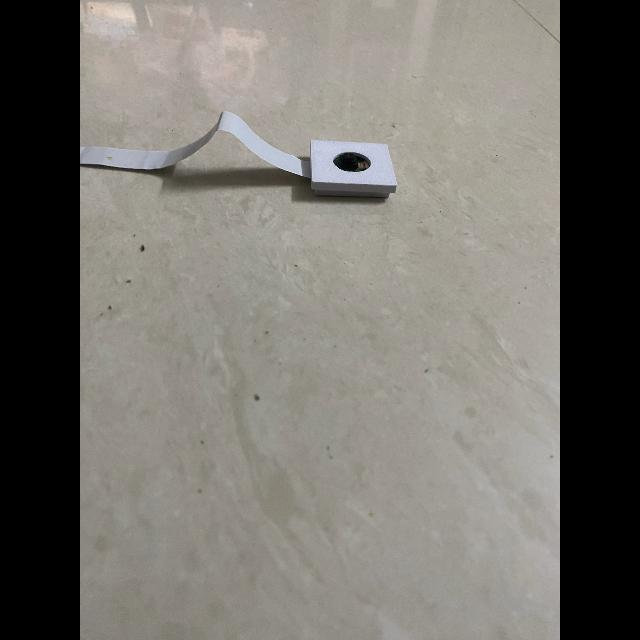RASPBERY PI CAM ENCLOSURE: (310, 140, 398, 198)
